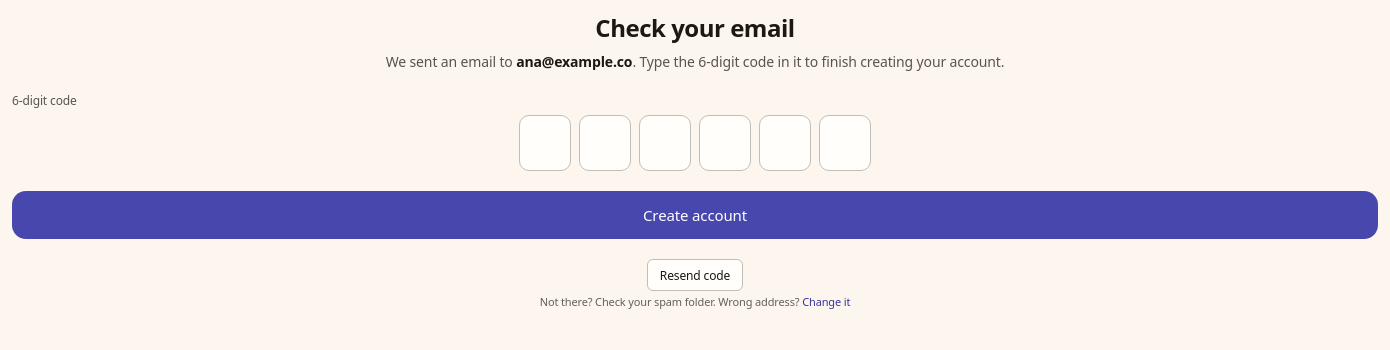
Scenario: RegisterView › answers every bad code once, and waits for another before Create account works
Step 1. Type "111111" into the field labelled "6-digit code" → (695,143), box [12,115,1378,171]
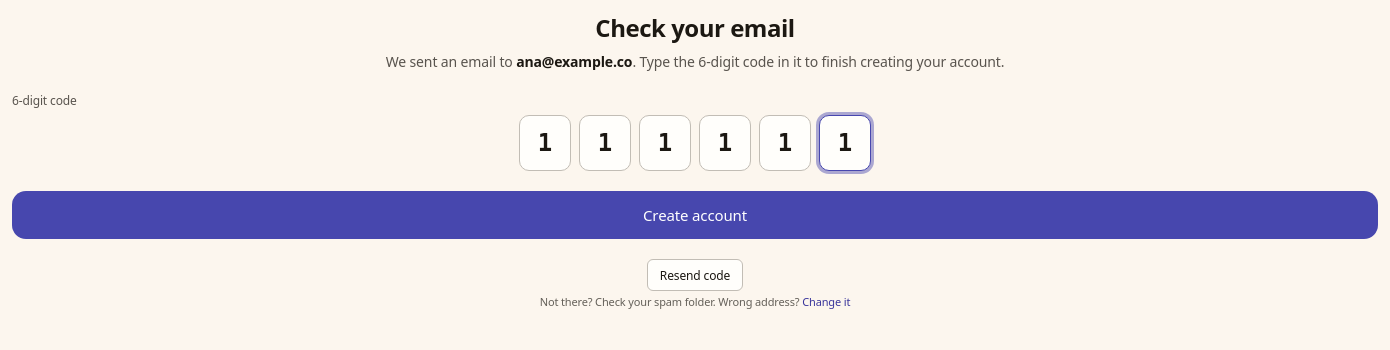
Step 2. Click the 1st button named "Create account" → (695,215), box [12,191,1378,239]
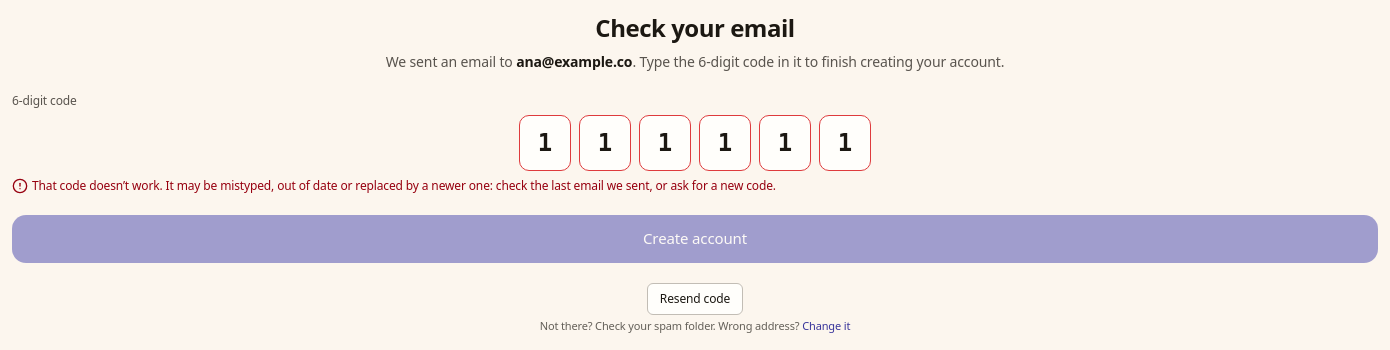
Check: the text "That code doesn’t work" is shown, box [32,177,776,194]
Check: the 1st button named "Create account" is disabled, box [12,215,1378,263]
Step 3. Type keys "222222"
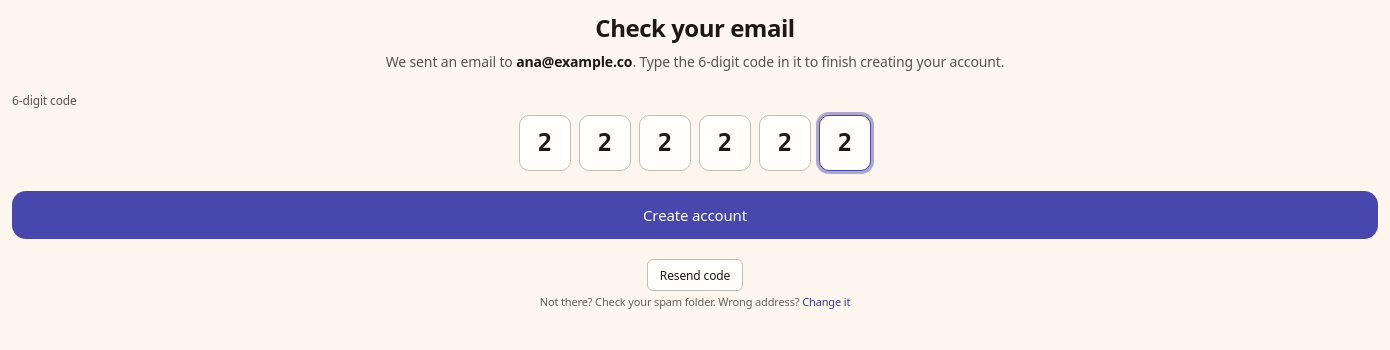
Check: the 1st button named "Create account" is enabled, box [12,191,1378,239]
